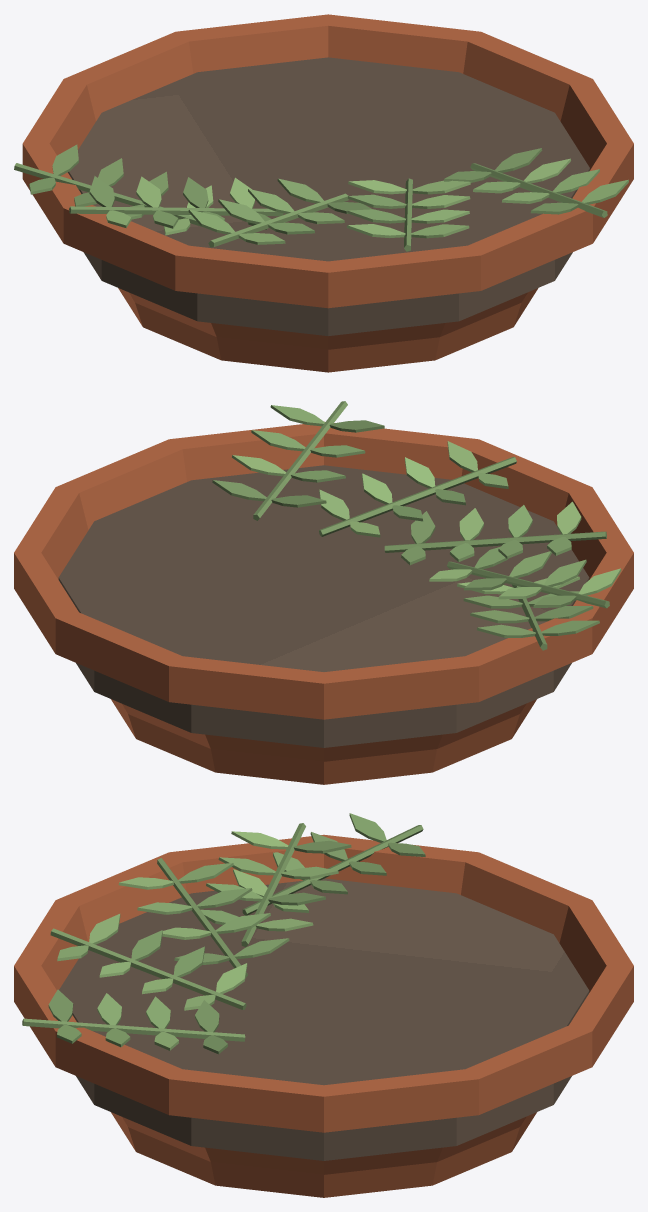
Rendered from moss-taxifolius.glb.
3 views of the same model, one above another, from view 1: azimuth 30°, elevation 25°; view 2: azimuth 150°, elevation 25°; view 3: azimuth 270°, elevation 25° (orthographic).
Visible parts, largest first — view 1: moss-taxifolius/review-rooted-soil, moss-taxifolius/review-terra-vessel, moss-taxifolius/moss-axis-010, moss-taxifolius/moss-axis-019, moss-taxifolius/moss-axis-037, moss-taxifolius/moss-axis-001, moss-taxifolius/two-row-moss-leaf-026, moss-taxifolius/two-row-moss-leaf-022, moss-taxifolius/two-row-moss-leaf-039, moss-taxifolius/two-row-moss-leaf-041, moss-taxifolius/two-row-moss-leaf-020, moss-taxifolius/two-row-moss-leaf-024 (+15 smaller); view 2: moss-taxifolius/review-rooted-soil, moss-taxifolius/review-terra-vessel, moss-taxifolius/moss-axis-028, moss-taxifolius/moss-axis-019, moss-taxifolius/moss-axis-010, moss-taxifolius/moss-axis-037, moss-taxifolius/two-row-moss-leaf-043, moss-taxifolius/two-row-moss-leaf-039, moss-taxifolius/two-row-moss-leaf-041, moss-taxifolius/two-row-moss-leaf-045, moss-taxifolius/two-row-moss-leaf-016, moss-taxifolius/two-row-moss-leaf-018 (+14 smaller); view 3: moss-taxifolius/review-rooted-soil, moss-taxifolius/review-terra-vessel, moss-taxifolius/moss-axis-028, moss-taxifolius/moss-axis-037, moss-taxifolius/moss-axis-001, moss-taxifolius/moss-axis-019, moss-taxifolius/moss-axis-010, moss-taxifolius/two-row-moss-leaf-026, moss-taxifolius/two-row-moss-leaf-020, moss-taxifolius/two-row-moss-leaf-022, moss-taxifolius/two-row-moss-leaf-024, moss-taxifolius/two-row-moss-leaf-018 (+11 smaller).
Boxes of the visible parts, left/top/right/bottom form: moss-taxifolius/review-rooted-soil: left=68, top=57, right=589, bottom=336; moss-taxifolius/review-terra-vessel: left=22, top=14, right=633, bottom=372; moss-taxifolius/moss-axis-010: left=69, top=206, right=283, bottom=216; moss-taxifolius/moss-axis-019: left=208, top=193, right=348, bottom=247; moss-taxifolius/moss-axis-037: left=470, top=163, right=607, bottom=217; moss-taxifolius/moss-axis-001: left=14, top=163, right=201, bottom=226; moss-taxifolius/two-row-moss-leaf-026: left=188, top=209, right=234, bottom=234; moss-taxifolius/two-row-moss-leaf-022: left=248, top=189, right=294, bottom=213; moss-taxifolius/two-row-moss-leaf-039: left=495, top=148, right=542, bottom=172; moss-taxifolius/two-row-moss-leaf-041: left=524, top=158, right=570, bottom=183; moss-taxifolius/two-row-moss-leaf-020: left=277, top=178, right=323, bottom=203; moss-taxifolius/two-row-moss-leaf-024: left=218, top=199, right=264, bottom=224; moss-taxifolius/review-rooted-soil: left=58, top=465, right=589, bottom=747; moss-taxifolius/review-terra-vessel: left=14, top=421, right=633, bottom=784; moss-taxifolius/moss-axis-028: left=319, top=457, right=516, bottom=536; moss-taxifolius/moss-axis-019: left=384, top=531, right=606, bottom=552; moss-taxifolius/moss-axis-010: left=447, top=561, right=609, bottom=608; moss-taxifolius/moss-axis-037: left=253, top=401, right=347, bottom=520; moss-taxifolius/two-row-moss-leaf-043: left=251, top=430, right=305, bottom=451; moss-taxifolius/two-row-moss-leaf-039: left=212, top=480, right=266, bottom=501; moss-taxifolius/two-row-moss-leaf-041: left=232, top=455, right=285, bottom=476; moss-taxifolius/two-row-moss-leaf-045: left=270, top=405, right=324, bottom=426; moss-taxifolius/two-row-moss-leaf-016: left=544, top=559, right=586, bottom=586; moss-taxifolius/two-row-moss-leaf-018: left=578, top=568, right=621, bottom=595; moss-taxifolius/review-rooted-soil: left=59, top=878, right=589, bottom=1160; moss-taxifolius/review-terra-vessel: left=14, top=834, right=633, bottom=1197; moss-taxifolius/moss-axis-028: left=50, top=928, right=246, bottom=1009; moss-taxifolius/moss-axis-037: left=22, top=1018, right=245, bottom=1041; moss-taxifolius/moss-axis-001: left=242, top=825, right=423, bottom=915; moss-taxifolius/moss-axis-019: left=157, top=858, right=247, bottom=978; moss-taxifolius/moss-axis-010: left=241, top=823, right=305, bottom=947; moss-taxifolius/two-row-moss-leaf-026: left=178, top=863, right=233, bottom=883; moss-taxifolius/two-row-moss-leaf-020: left=234, top=938, right=289, bottom=958; moss-taxifolius/two-row-moss-leaf-022: left=215, top=913, right=270, bottom=933; moss-taxifolius/two-row-moss-leaf-024: left=197, top=888, right=252, bottom=908; moss-taxifolius/two-row-moss-leaf-018: left=231, top=831, right=288, bottom=849.
Bounding box in the file's own units: 0.2595 × 0.0678 × 0.25.
Materials: 3 (3 with a texture image).
